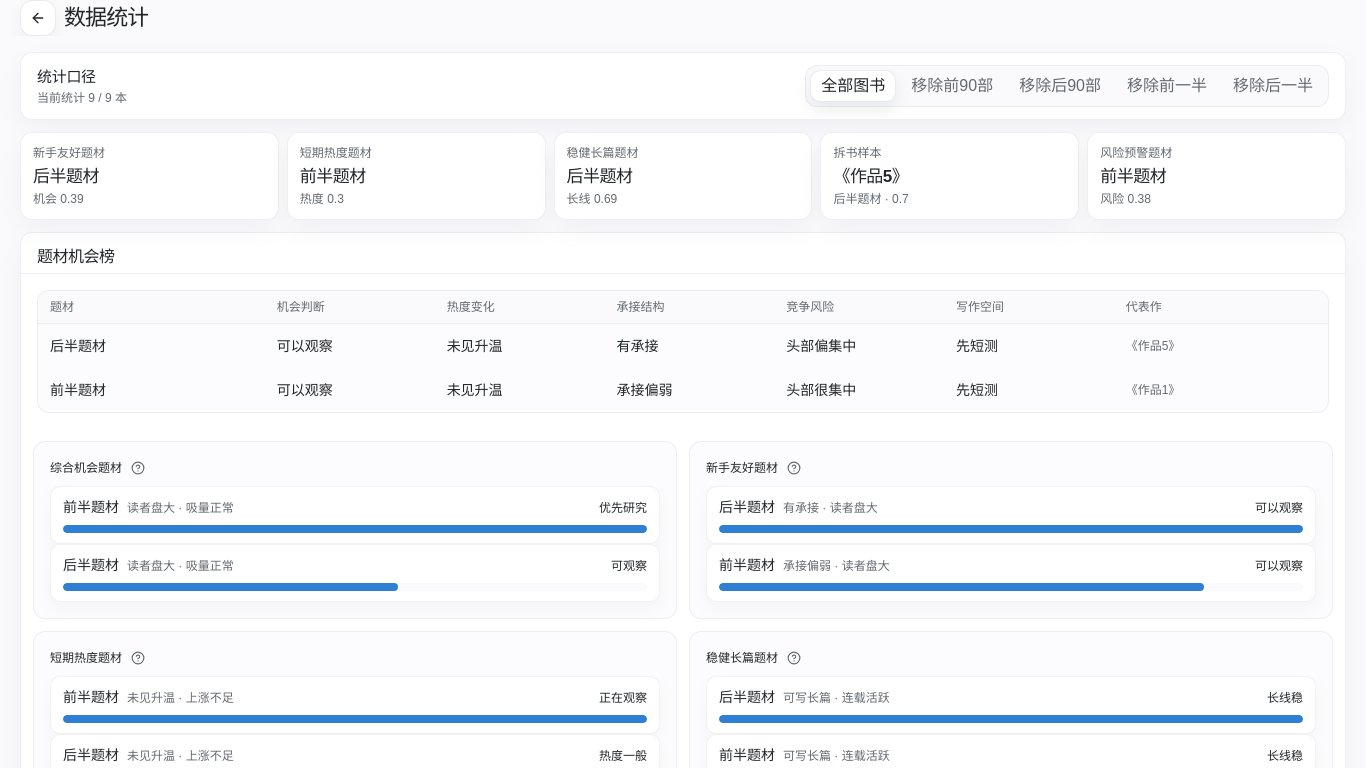
LeaderboardStatsPage › 支持移除前一半和后一半后重新统计
Expected: the text "当前统计 9 / 9 本" is shown, x1=37 y1=90 x2=127 y2=106
Click the button "移除前一半" at coordinates (1167, 86), box x1=1116 y1=70 x2=1218 y2=102
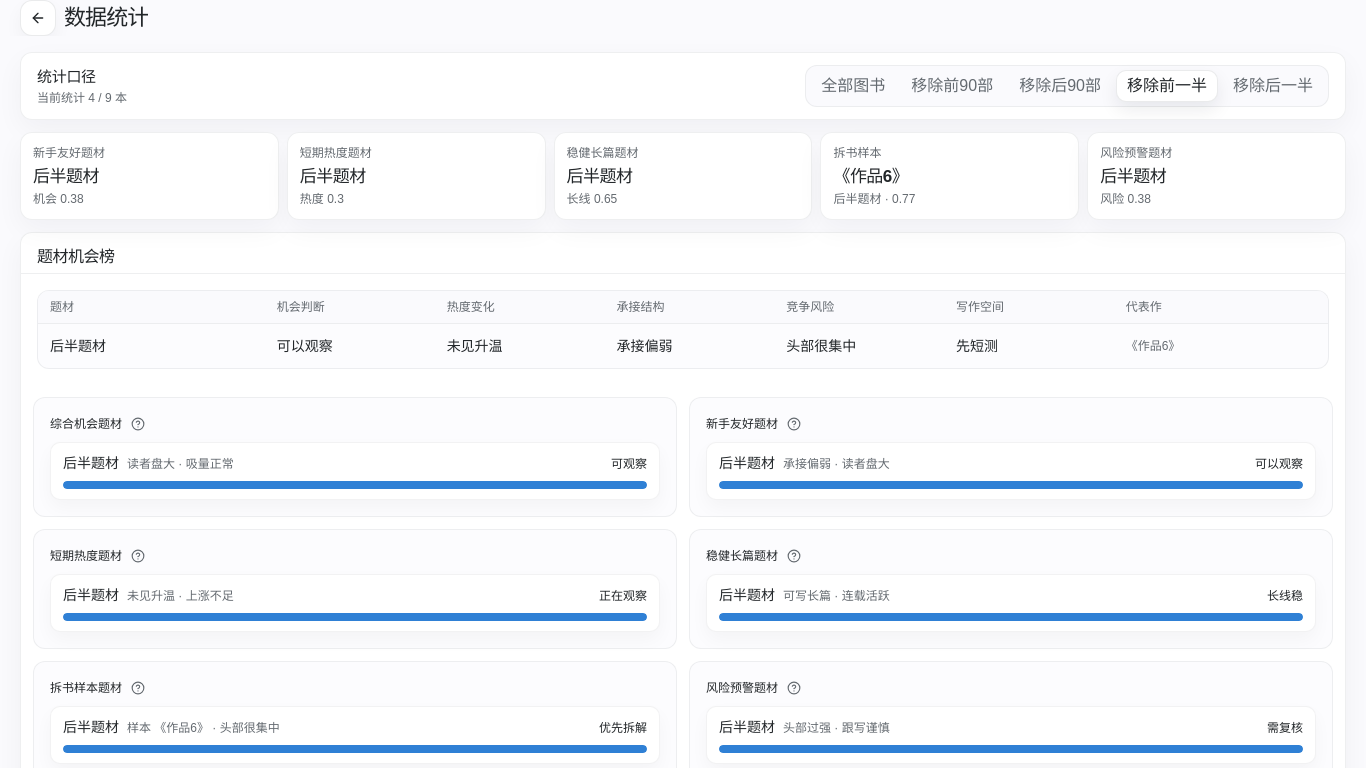
Expected: the 1st text "后半题材" is shown, x1=33 y1=167 x2=99 y2=186
Expected: the text "当前统计 4 / 9 本" is shown, x1=37 y1=90 x2=127 y2=106
Click the button "移除后一半" at coordinates (1273, 86), box x1=1222 y1=70 x2=1324 y2=102
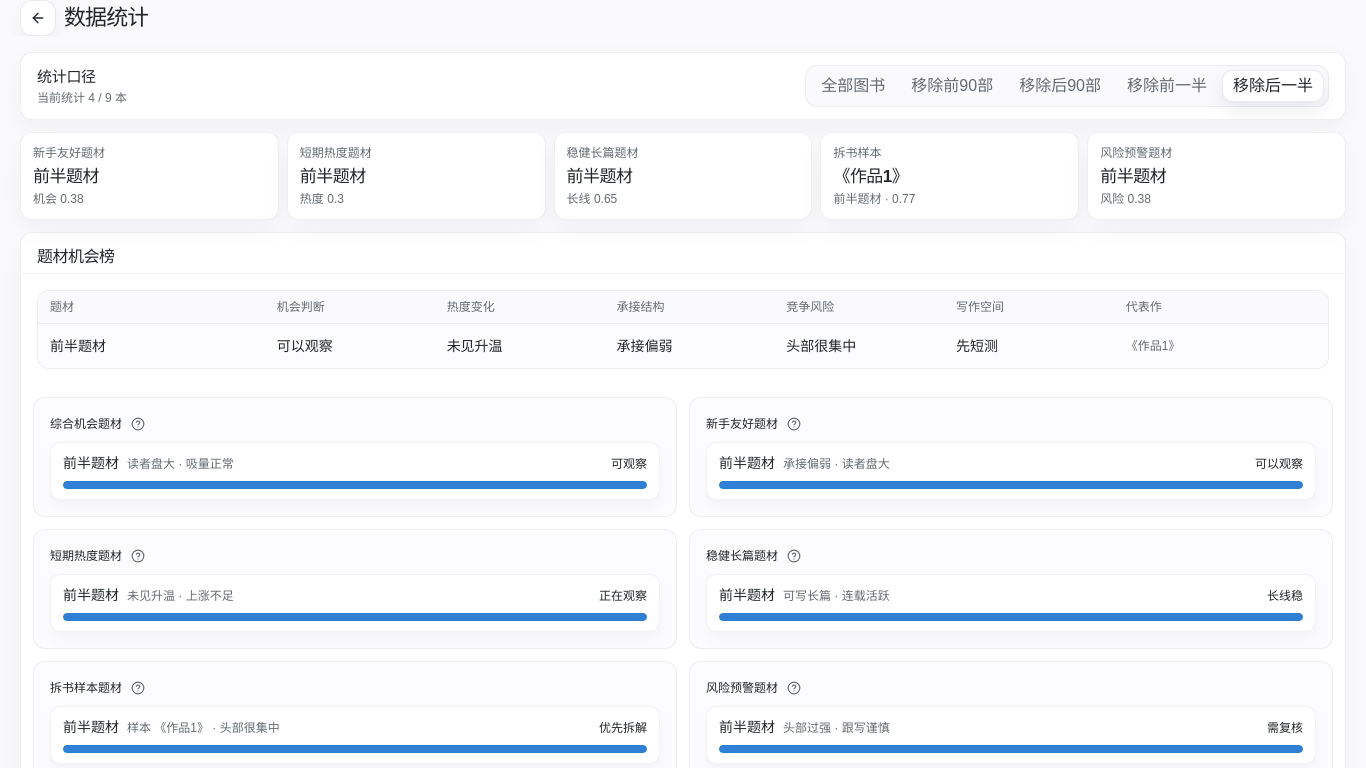
Expected: the text "当前统计 4 / 9 本" is shown, x1=37 y1=90 x2=127 y2=106
Expected: the 1st text "前半题材" is shown, x1=33 y1=167 x2=99 y2=186
